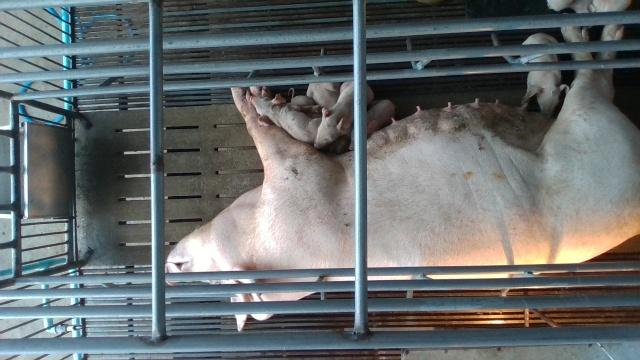piglet: (314, 79, 375, 148), (520, 32, 569, 115), (251, 92, 322, 145), (348, 98, 396, 149), (308, 82, 340, 110)
sow-sleep-lactate: (164, 25, 640, 334)
